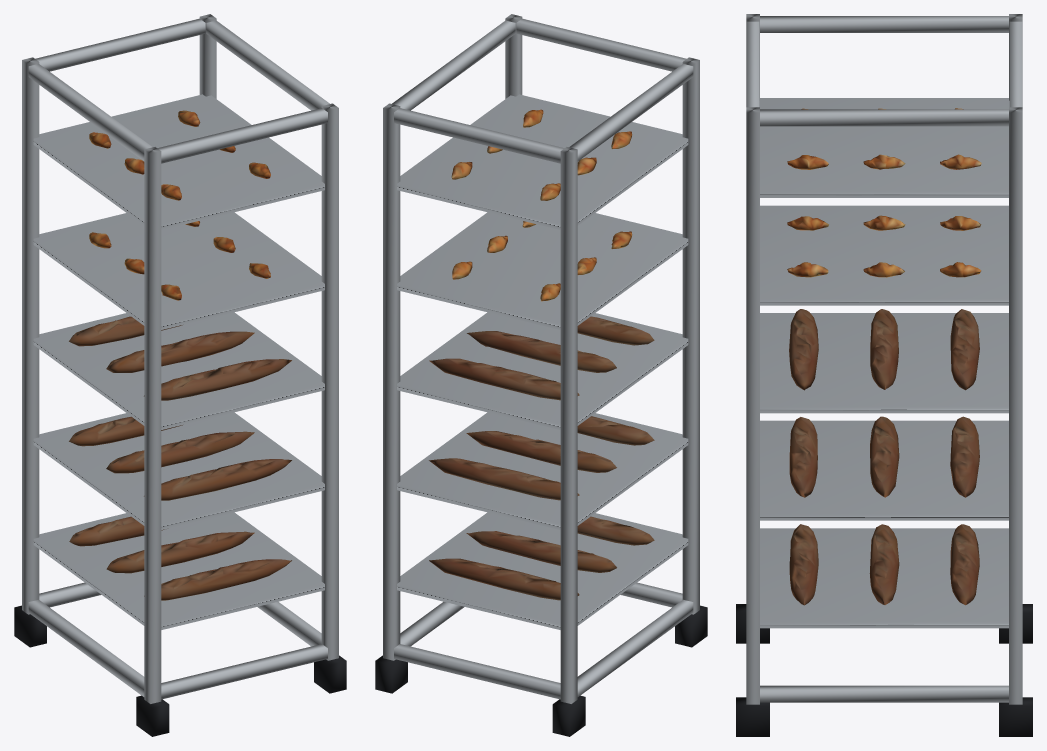
The model's file is bakery-trolley.glb.
The picture shows the model from 3 angles, left to right: view 1: azimuth 30°, elevation 25°; view 2: azimuth 150°, elevation 25°; view 3: azimuth 270°, elevation 25°; orthographic projection. The views are drawn at different scales.
Parts seen in each view (by area): view 1: geometry_0; view 2: geometry_0; view 3: geometry_0.
Boxes of the visible parts, x1=… form: geometry_0: x1=14, y1=14, x2=346, y2=736; geometry_0: x1=375, y1=14, x2=707, y2=736; geometry_0: x1=736, y1=14, x2=1032, y2=736.
Bounding box in the file's own units: 0.57 × 1.62 × 0.7.
